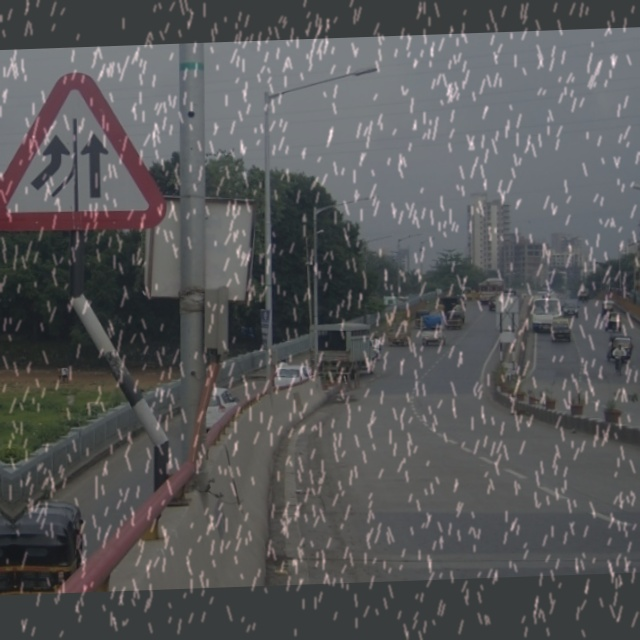Merge_Traffic_Ahead: (10, 77, 165, 234)
